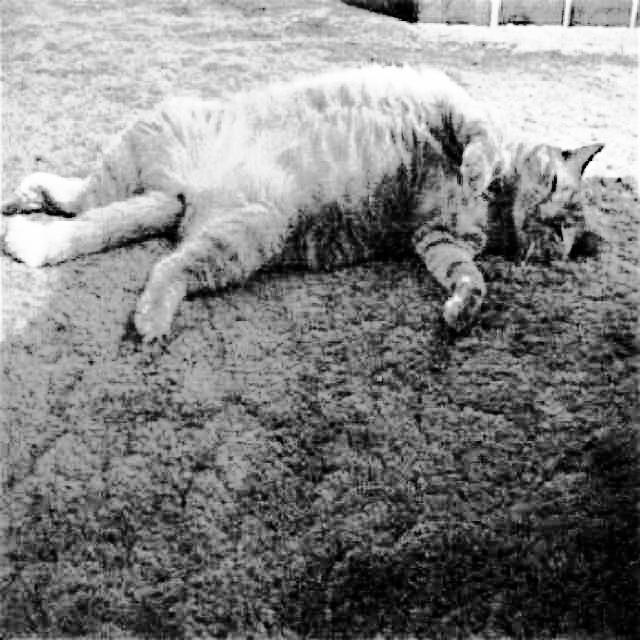Cat: (2, 63, 611, 352)
